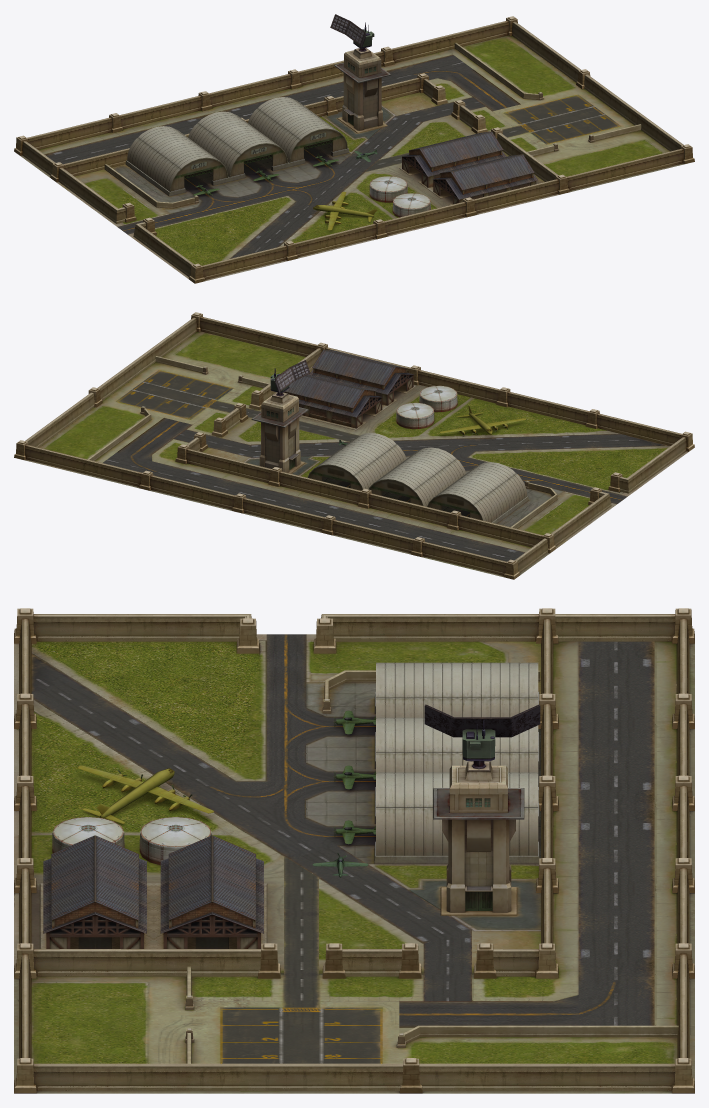
The model's file is Dhz_AilitaryAirport_02.FBX.
3 views of the same model, one above another, from view 1: azimuth 30°, elevation 25°; view 2: azimuth 150°, elevation 25°; view 3: azimuth 270°, elevation 25° (orthographic). The views are drawn at different scales.
Parts seen in each view (by area): view 1: Dhz_AilitaryAirport_02, Dhz_airport_radar; view 2: Dhz_AilitaryAirport_02, Dhz_airport_radar; view 3: Dhz_AilitaryAirport_02, Dhz_airport_radar.
Part boxes in pixels (x1,y1,x2,y2): Dhz_AilitaryAirport_02: [14, 16, 694, 283]; Dhz_airport_radar: [330, 14, 374, 49]; Dhz_AilitaryAirport_02: [14, 312, 694, 579]; Dhz_airport_radar: [270, 360, 310, 395]; Dhz_AilitaryAirport_02: [14, 608, 694, 1093]; Dhz_airport_radar: [424, 704, 540, 760].
Bounding box in the file's own units: 493 × 94.4 × 309.
